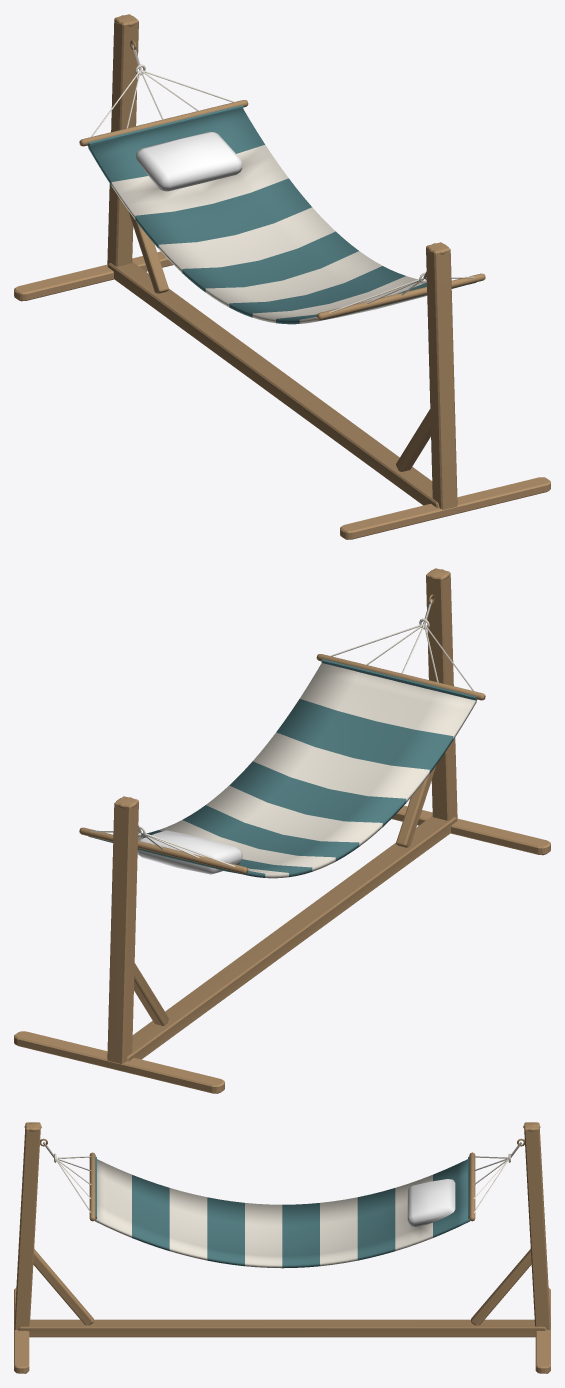
Rendered from hammock.glb.
3 views of the same model, one above another, from view 1: azimuth 30°, elevation 25°; view 2: azimuth 150°, elevation 25°; view 3: azimuth 270°, elevation 25° (orthographic). The views are drawn at different scales.
Parts seen in each view (by area): view 1: sling, stand; view 2: sling, stand; view 3: sling, stand.
Part boxes in pixels (x1=…): sling: x1=79, y1=45, x2=485, y2=324; stand: x1=14, y1=14, x2=550, y2=539; sling: x1=79, y1=599, x2=485, y2=878; stand: x1=14, y1=568, x2=550, y2=1093; sling: x1=43, y1=1142, x2=521, y2=1268; stand: x1=14, y1=1122, x2=550, y2=1373.
Size of the model in its own units: 1 by 1.2 by 2.8.
